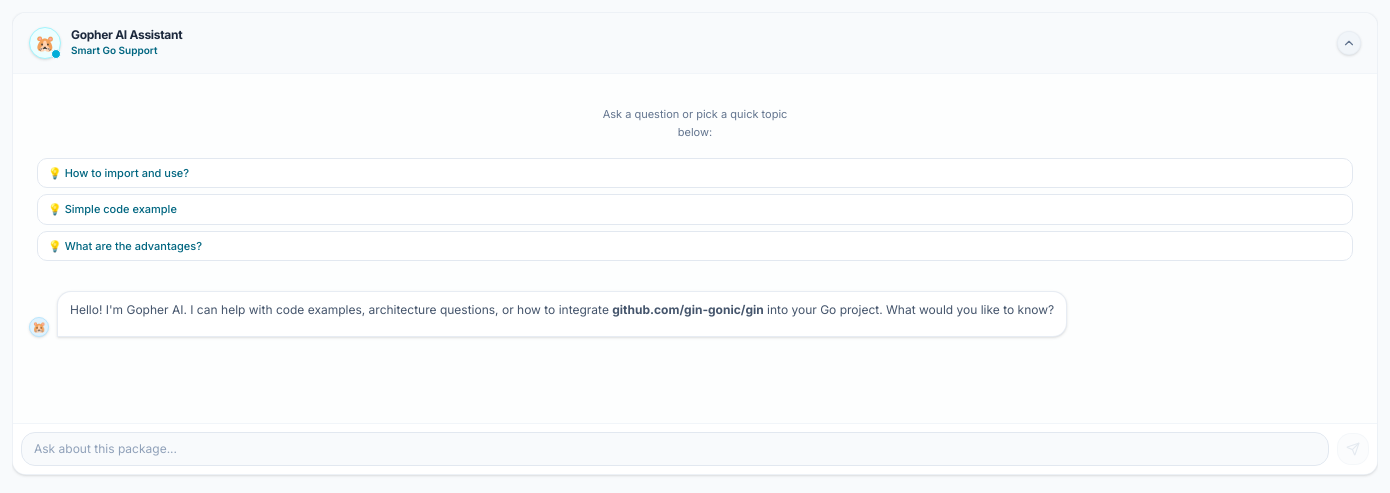
it: GopherChat › shows a fallback message when the API responds with an error
Type "hi" into the field labelled "Ask about this package...".
click(675, 449); type("hi")  # box left=21, top=432, right=1329, bottom=466
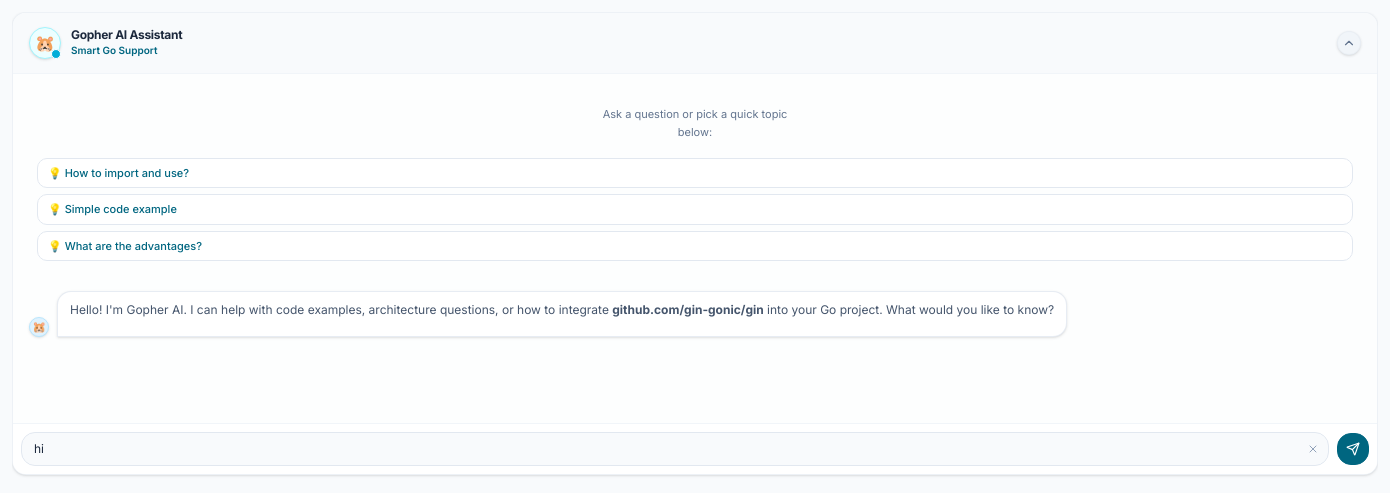
Click the button named "send message".
click(1353, 449)  # box left=1337, top=433, right=1369, bottom=465
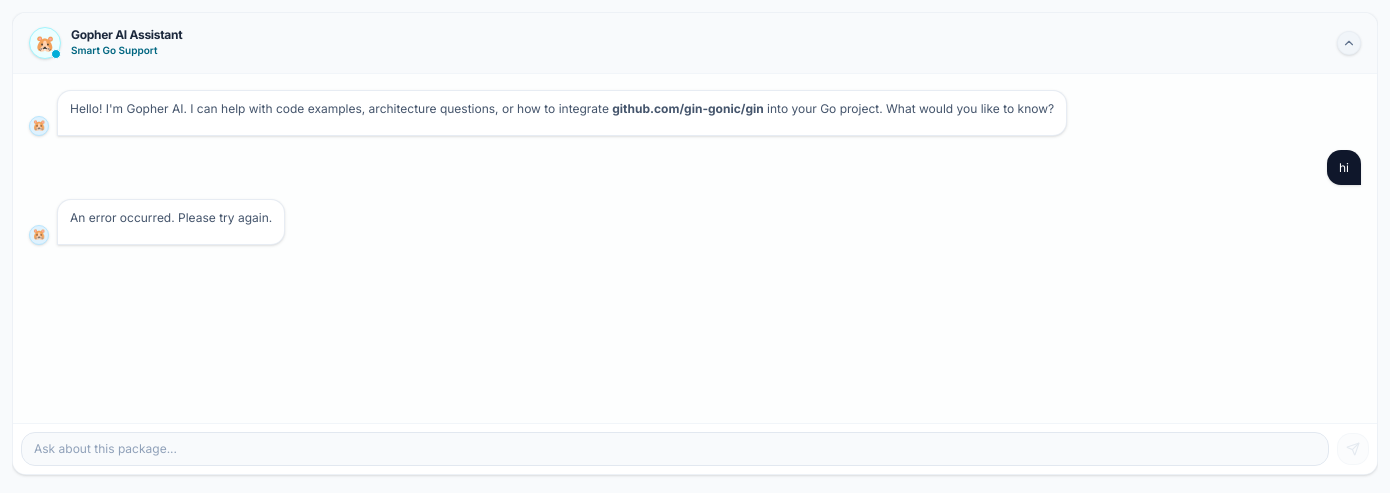
Check: the text "An error occurred. Please try again." is shown, box left=70, top=208, right=272, bottom=228
